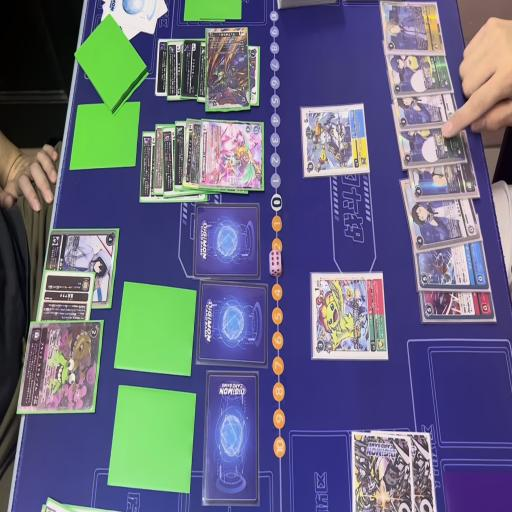card: (14, 316, 105, 418), (309, 269, 390, 363), (41, 226, 122, 316), (396, 172, 484, 252), (298, 103, 370, 179), (196, 39, 264, 109), (202, 120, 264, 196), (36, 270, 96, 346), (206, 21, 250, 118), (416, 240, 487, 292), (380, 0, 444, 56), (406, 154, 480, 200), (394, 122, 470, 166), (391, 88, 464, 132), (380, 53, 454, 96), (418, 290, 498, 327), (161, 125, 179, 205), (166, 38, 187, 102), (185, 120, 205, 187), (183, 37, 200, 104), (140, 130, 154, 206), (175, 116, 187, 192), (156, 39, 172, 95), (153, 120, 165, 192)
